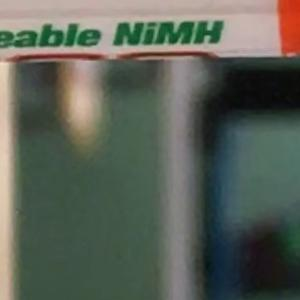keyword: (103, 11, 233, 56)
